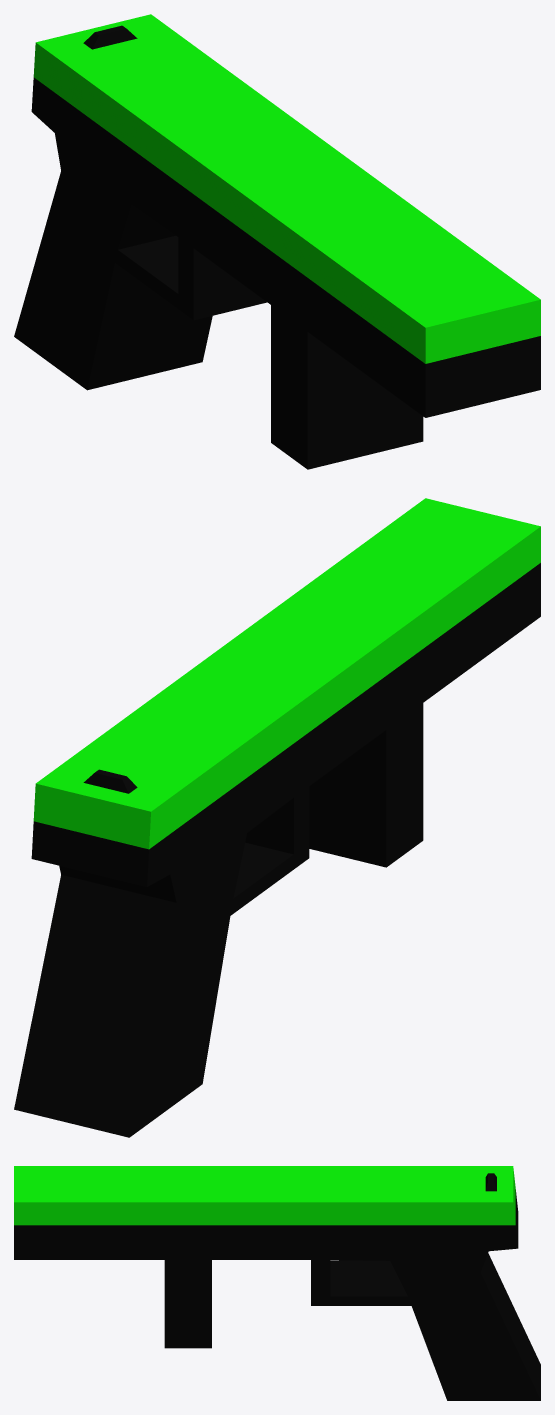
Rendered from SubMachineGun.fbx.
The picture shows the model from 3 angles, top to bottom: view 1: azimuth 30°, elevation 25°; view 2: azimuth 150°, elevation 25°; view 3: azimuth 270°, elevation 25°; orthographic projection. The views are drawn at different scales.
Visible parts, largest first — view 1: SubMachineGun; view 2: SubMachineGun; view 3: SubMachineGun.
Part boxes in pixels (left/top/right/bottom): SubMachineGun: left=14, top=14, right=540, bottom=469; SubMachineGun: left=14, top=498, right=540, bottom=1137; SubMachineGun: left=14, top=1166, right=540, bottom=1400.
Size of the model in its own units: 20 by 53.07 by 123.
